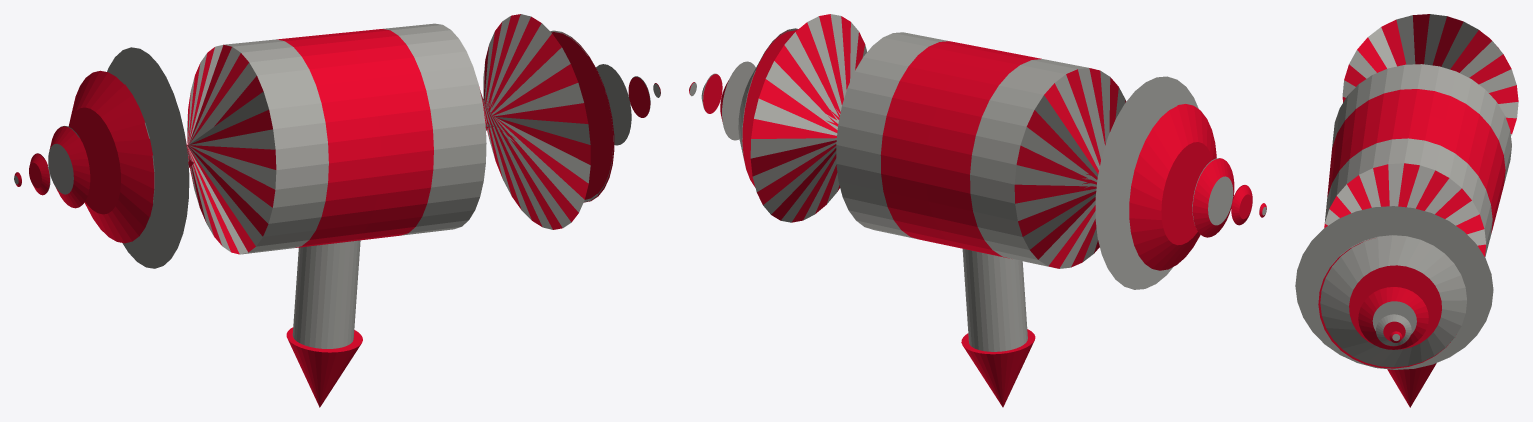
The model's file is weapon2.fbx.
3 renders of one model, left to right at view 1: azimuth 30°, elevation 25°; view 2: azimuth 150°, elevation 25°; view 3: azimuth 270°, elevation 25°, orthographic. The views are drawn at different scales.
Visible parts, largest first — view 1: Cylinder; view 2: Cylinder; view 3: Cylinder.
Part boxes in pixels (x1,y1,x2,y2): Cylinder: (14,14,660,407); Cylinder: (689,14,1266,407); Cylinder: (1295,14,1518,407).
Bounding box in the file's own units: 72.84 × 43.27 × 26.71.
